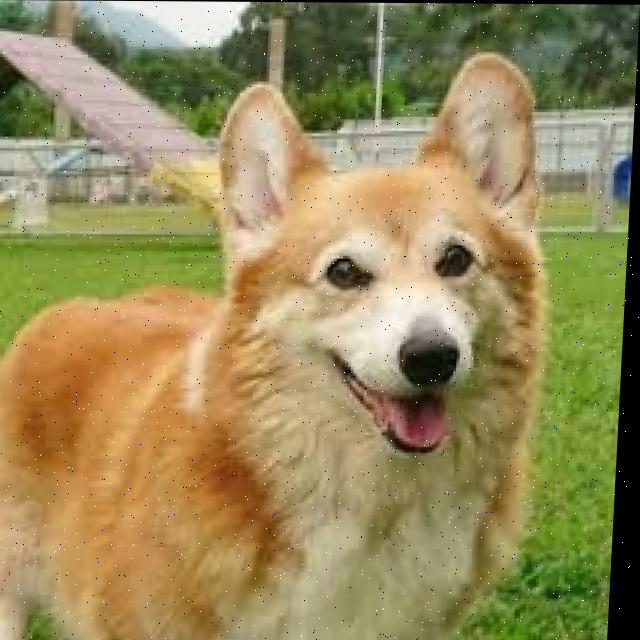CORGI: (0, 40, 550, 640)
